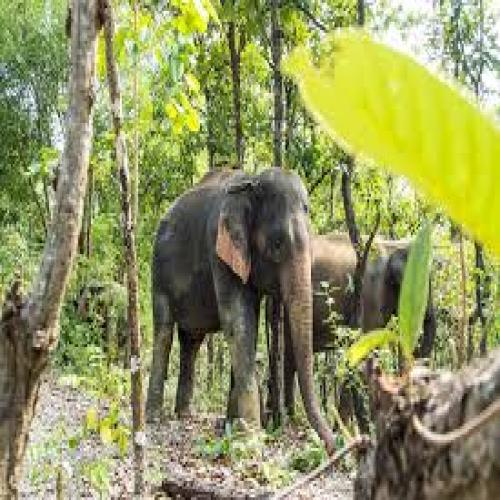asian_elephant-endangered: (146, 170, 337, 454), (294, 229, 436, 424)
